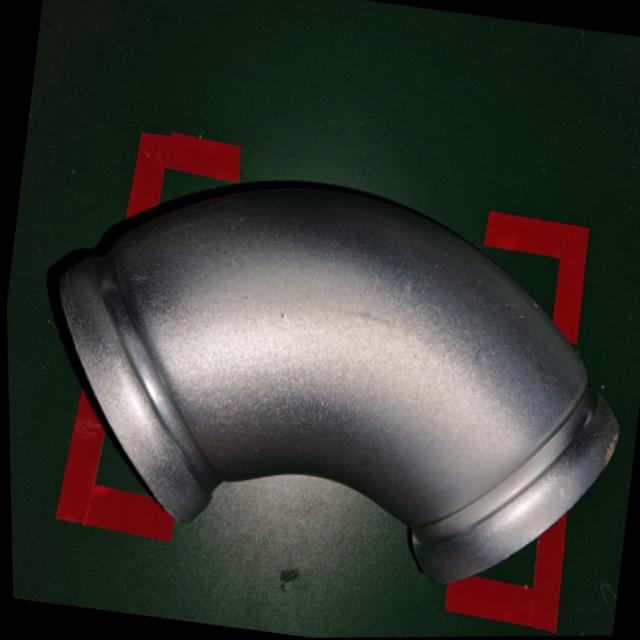Normal: (5, 134, 640, 614)
